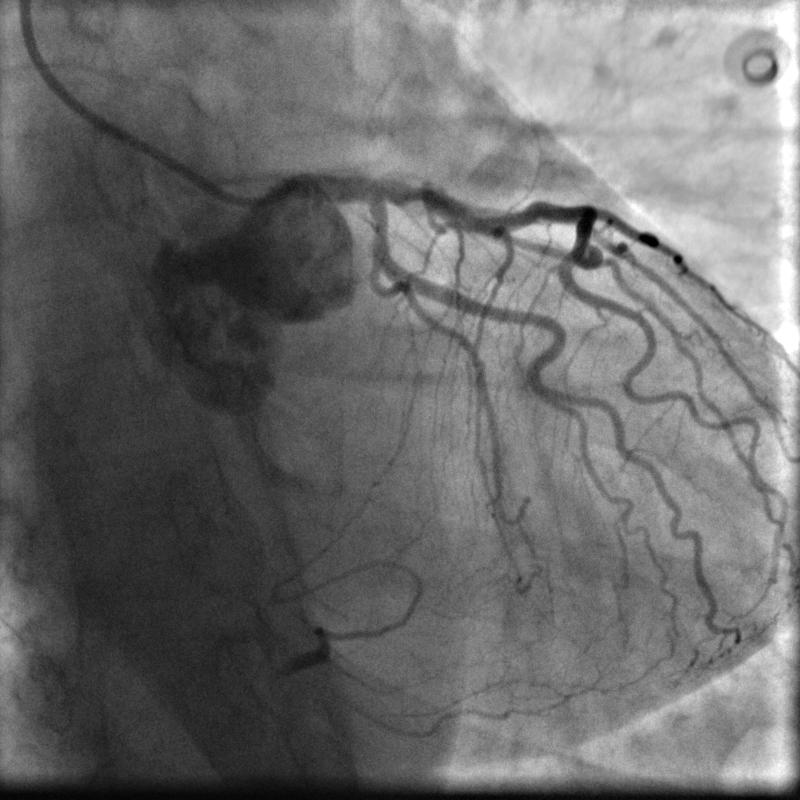Stenosis: (397, 176, 429, 206)
